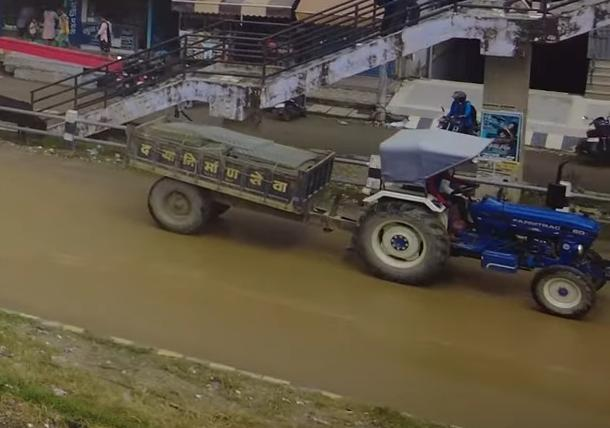tractor: (344, 114, 610, 318)
